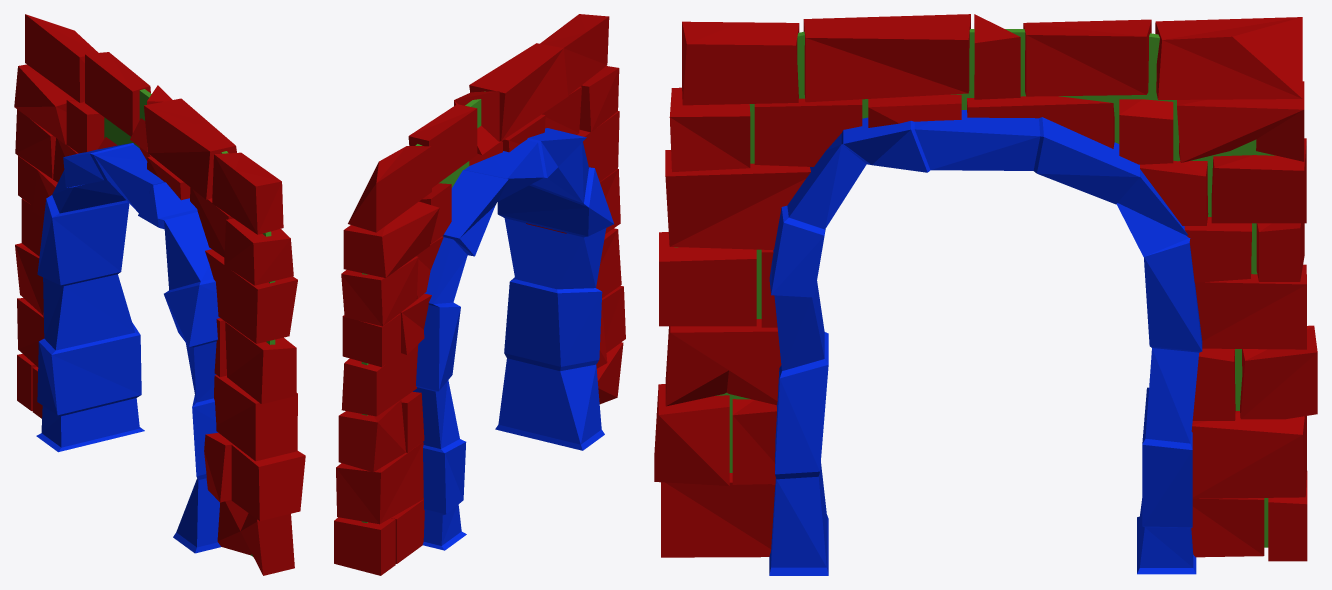
File: Ruin_Arch.fbx
The picture shows the model from 3 angles, left to right: view 1: azimuth 30°, elevation 25°; view 2: azimuth 150°, elevation 25°; view 3: azimuth 270°, elevation 25°; orthographic projection. The views are drawn at different scales.
Visible parts, largest first — view 1: Arc_Ruin; view 2: Arc_Ruin; view 3: Arc_Ruin.
Part boxes in pixels (<box>): Arc_Ruin: <box>14,14,305,575</box>; Arc_Ruin: <box>334,14,625,575</box>; Arc_Ruin: <box>654,14,1317,575</box>.
Size of the model in its own units: 157 by 571 by 655.
